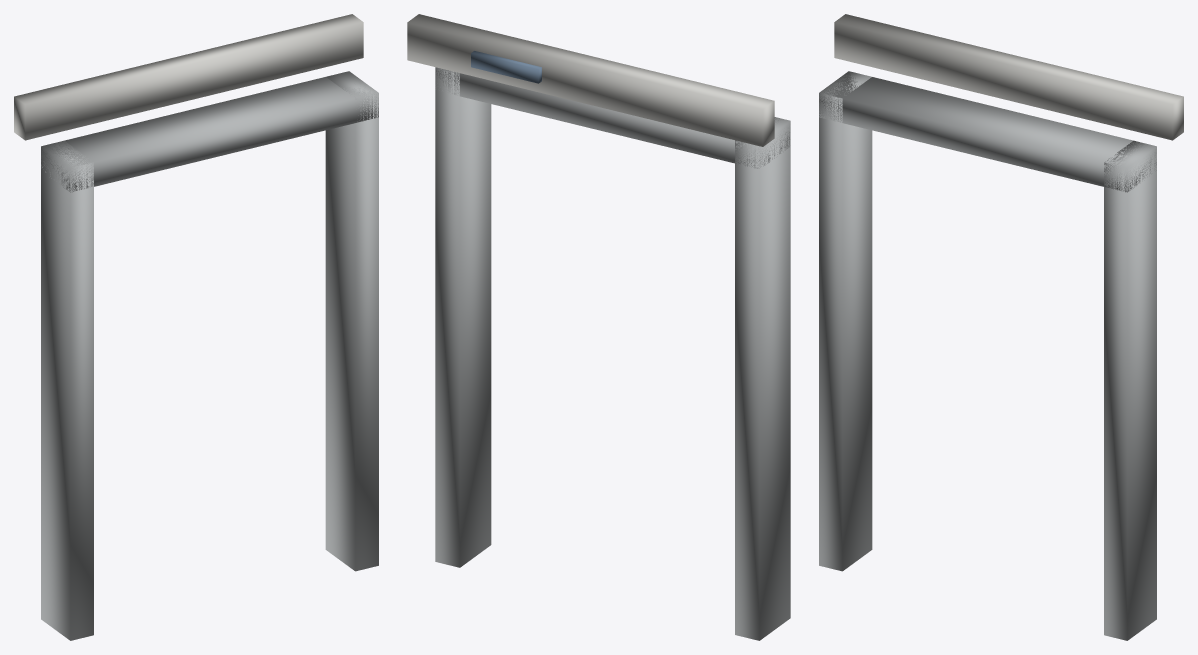
The model's file is doorway_hospital_w122_h200_d24.glb.
The picture shows the model from 3 angles, left to right: view 1: azimuth 30°, elevation 25°; view 2: azimuth 150°, elevation 25°; view 3: azimuth 330°, elevation 25°; orthographic projection. The views are drawn at different scales.
Visible parts, largest first — view 1: world; view 2: world; view 3: world.
Part boxes in pixels (box(x1,y1,x2,y2)): world: box(14, 14, 378, 640); world: box(407, 14, 790, 640); world: box(819, 14, 1183, 640).
Size of the model in its own units: 1.58 by 2.31 by 0.36.
